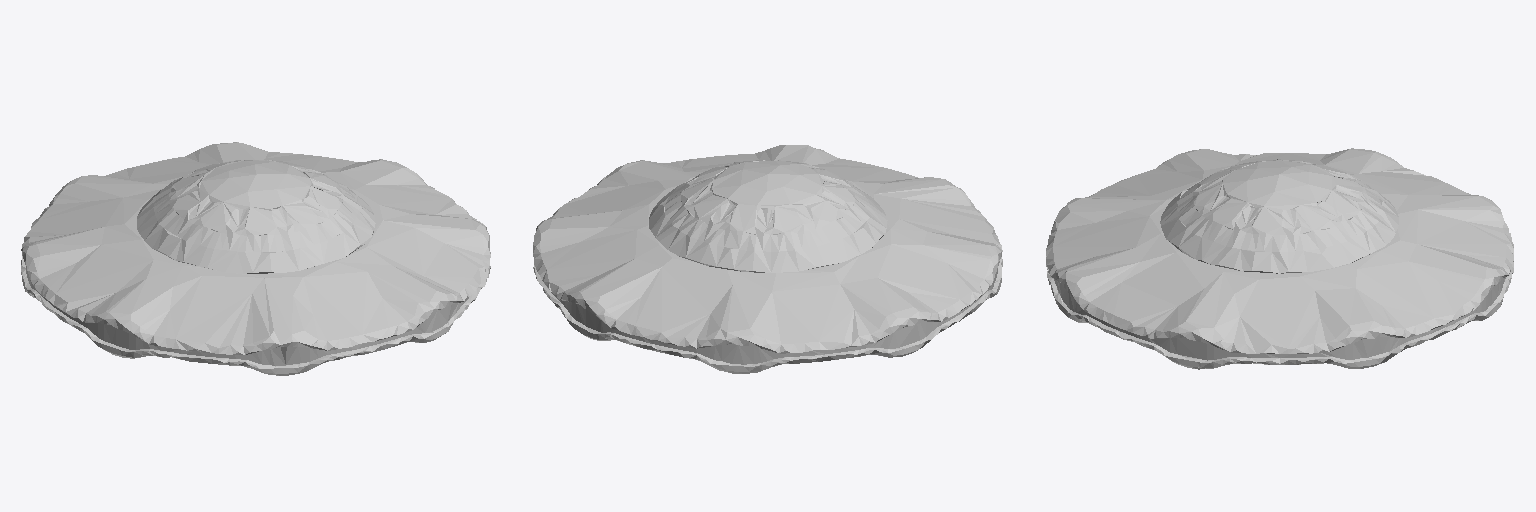
Rendered from frame_024.obj.
The picture shows the model from 3 angles: view 1: azimuth 30°, elevation 25°; view 2: azimuth 150°, elevation 25°; view 3: azimuth 270°, elevation 25°; orthographic projection.
Parts seen in each view (by area): view 1: 13884_UFO_Saucer_v1_l2; view 2: 13884_UFO_Saucer_v1_l2; view 3: 13884_UFO_Saucer_v1_l2.
Boxes of the visible parts, <box> form: 13884_UFO_Saucer_v1_l2: <box>21,142,490,375</box>; 13884_UFO_Saucer_v1_l2: <box>533,145,1002,373</box>; 13884_UFO_Saucer_v1_l2: <box>1046,148,1513,369</box>.
Bounding box in the file's own units: 12.69 × 4.88 × 12.7.